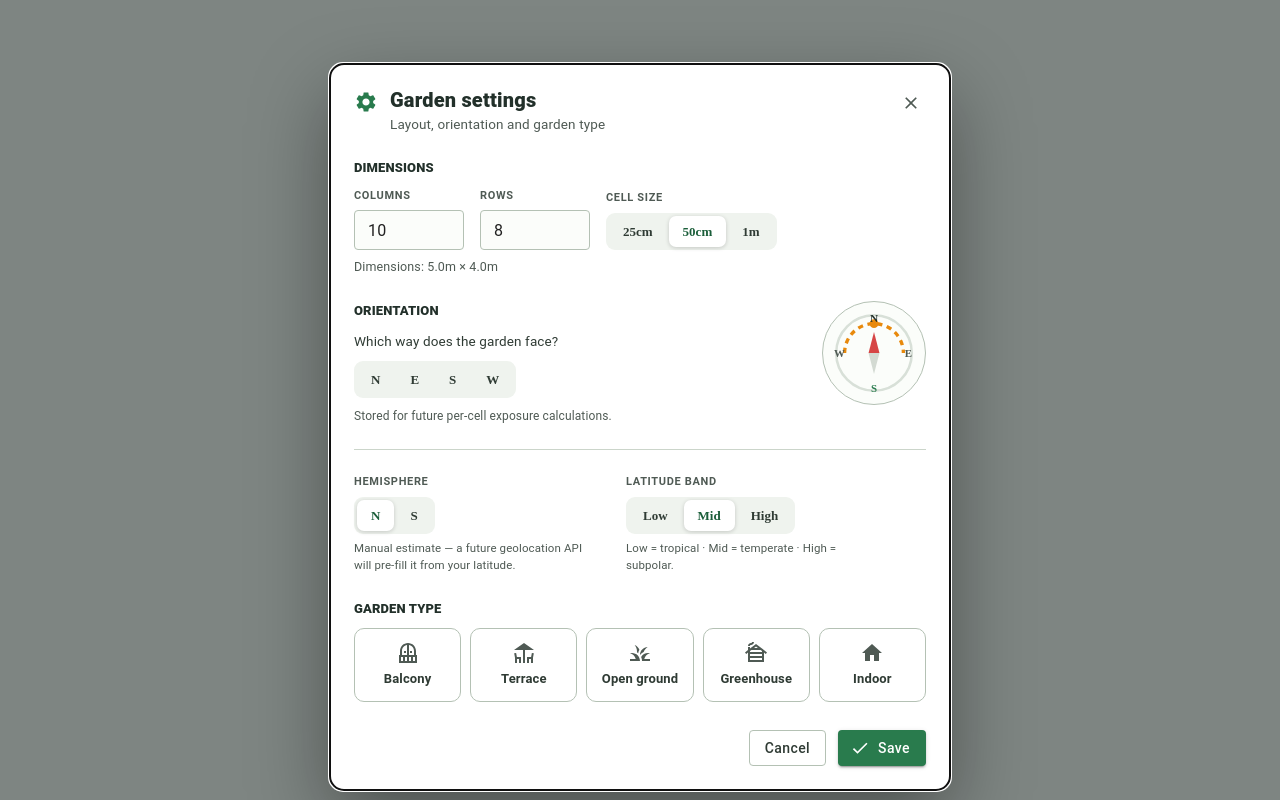
it: GardenConfigDialog (SMA-17, §12) › reveals the lightSchedule zone only when Indoor is selected
Expected: the text "Automated lighting (lightSchedule)" is not shown
Click the radio button labelled "Indoor".
click(872, 665)  # box [819, 628, 926, 702]
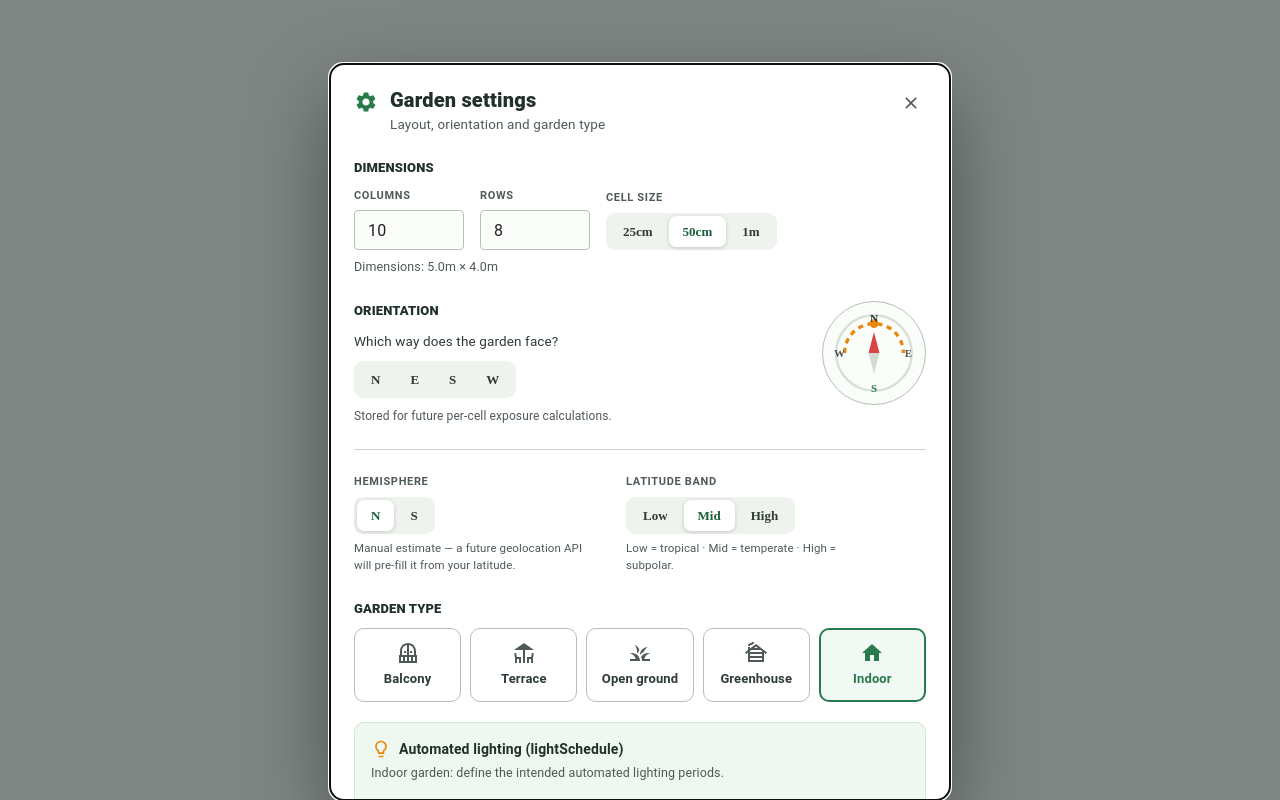
Now the text "Automated lighting (lightSchedule)" is shown, box [399, 739, 624, 760]
# Switching away hides it again.
Click the radio button labelled "Balcony".
click(408, 665)  # box [354, 628, 461, 702]
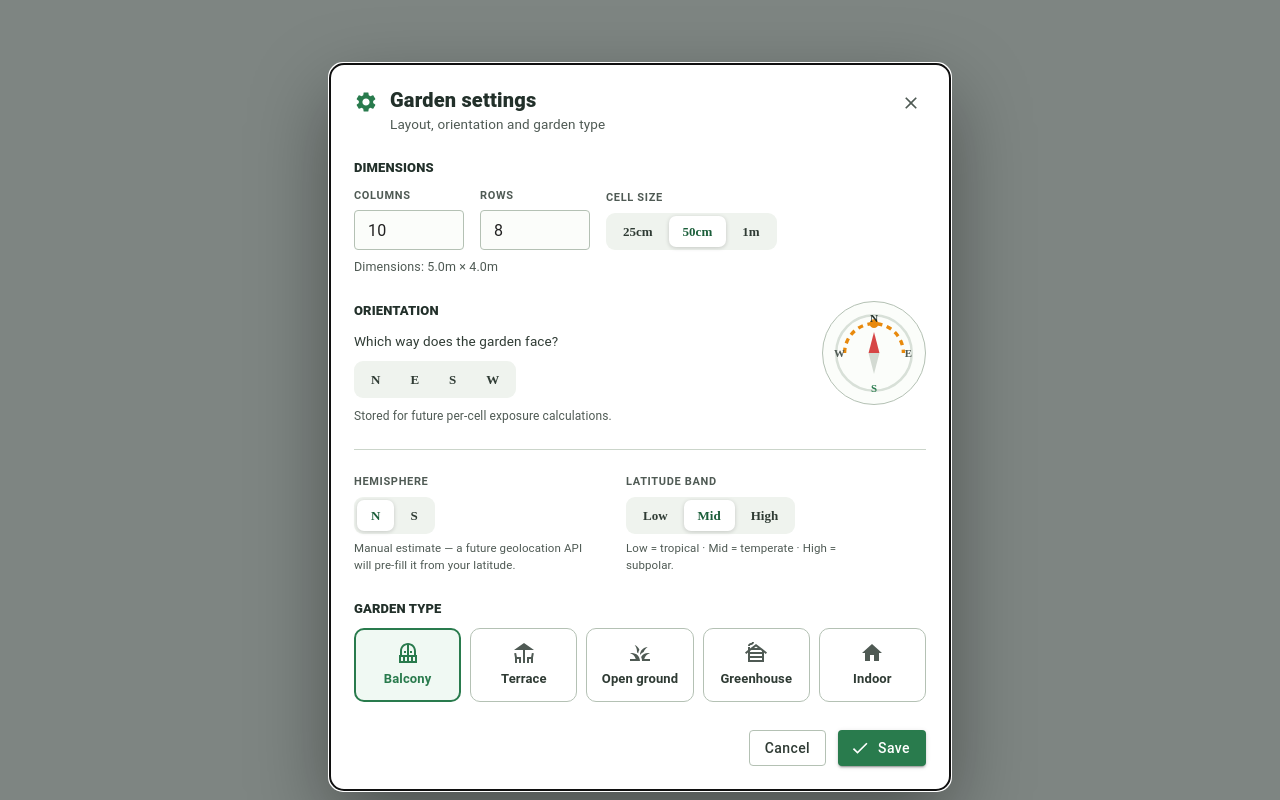
Now the text "Automated lighting (lightSchedule)" is gone
